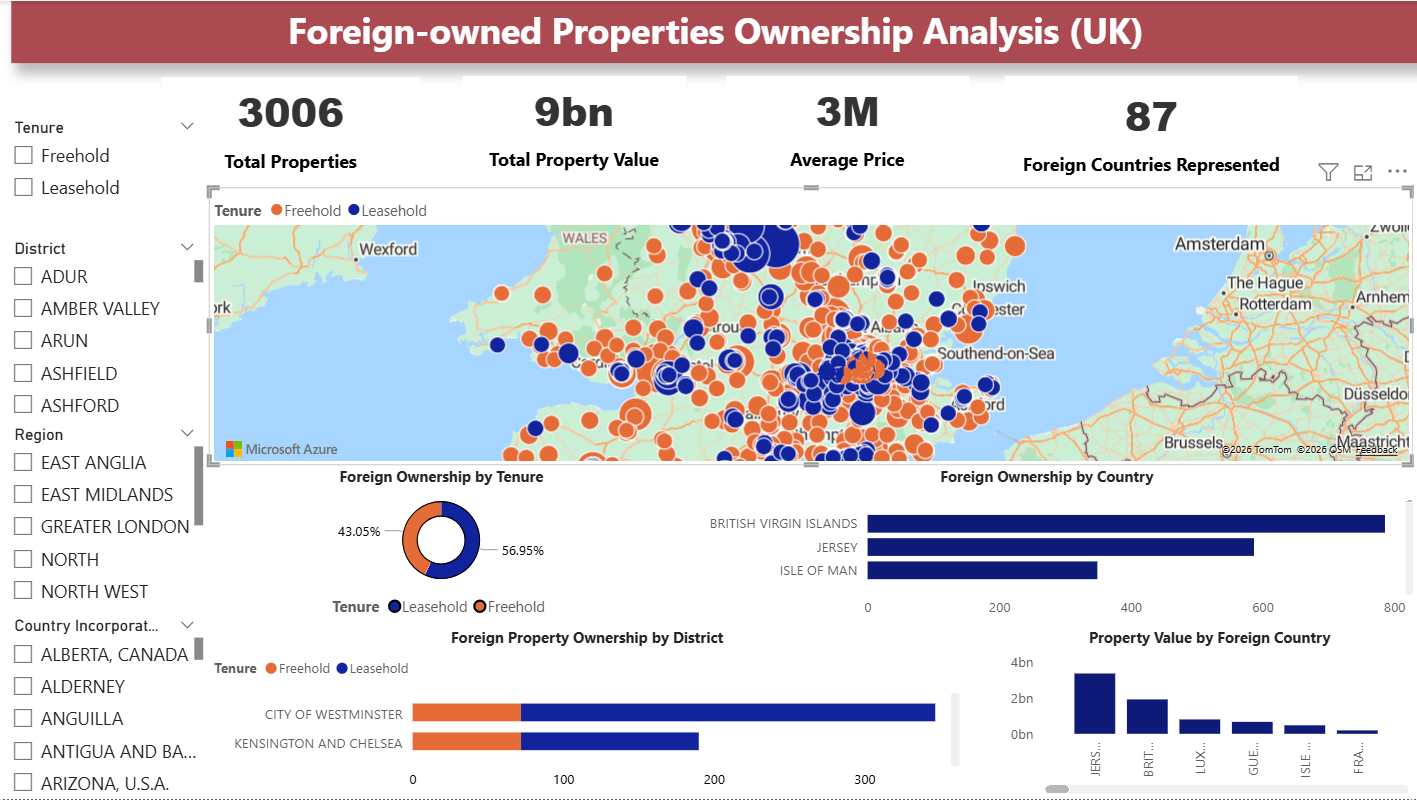

Layout of this report page (visuals, bound fields, positions):
{"tool":"powerbi","page":{"name":"Page 1","canvas":[1280,720],"ordinal":0},"visuals":[{"type":"textbox","box":[9.6,0,1270.7,56.3],"z":0},{"type":"advanceCardE03760C5AB684758B56AA29F9E6C257B","fields":{"mainMeasure":["processed_df.Total Properties"]},"box":[145.5,68.5,233.6,90.5],"z":1000},{"type":"advanceCardE03760C5AB684758B56AA29F9E6C257B","fields":{"mainMeasure":["processed_df.Total Property Value"]},"box":[416.8,68.1,201.6,89.9],"z":2000},{"type":"advanceCardE03760C5AB684758B56AA29F9E6C257B","fields":{"mainMeasure":["processed_df.Average Price"]},"box":[655.1,68.1,219.3,89.9],"z":3000},{"type":"advanceCardE03760C5AB684758B56AA29F9E6C257B","fields":{"mainMeasure":["processed_df.Countries Represented"]},"box":[905.7,68.1,264.2,99.4],"z":4000},{"type":"azureMap","fields":{"Y":["processed_df.Latitude"],"X":["processed_df.Longitude"],"Series":["processed_df.Tenure"],"Size":["Sum(processed_df.Price Paid)"]},"box":[188,167.5,1086.9,252],"z":5000},{"type":"donutChart","title":"Foreign Ownership by Tenure","fields":{"Category":["processed_df.Tenure"],"Y":["CountNonNull(processed_df.Title Number)"]},"box":[188,419.5,419.5,145.7],"z":5001},{"type":"clusteredBarChart","title":"Foreign Ownership by Country","fields":{"Category":["processed_df.Country Incorporated (1)"],"Y":["CountNonNull(processed_df.Title Number)"]},"box":[607.5,419.5,672.8,145.7],"z":5002},{"type":"barChart","title":"Foreign Property Ownership by District","fields":{"Category":["processed_df.District"],"Y":["CountNonNull(processed_df.Title Number)"],"Series":["processed_df.Tenure"]},"box":[188,565.2,682.4,155.3],"z":5003},{"type":"clusteredColumnChart","title":"Property Value by Foreign Country","fields":{"Category":["processed_df.Country Incorporated (1)"],"Y":["Sum(processed_df.Price Paid)"]},"box":[905.7,565.2,369.1,155.3],"z":5004},{"type":"slicer","fields":{"Values":["processed_df.Tenure"]},"box":[0,100.8,188,109],"z":5005},{"type":"slicer","fields":{"Values":["processed_df.Region"]},"box":[0,377.3,188,173],"z":5006},{"type":"slicer","fields":{"Values":["processed_df.District"]},"box":[0,209.7,188,167.5],"z":5007},{"type":"slicer","fields":{"Values":["processed_df.Country Incorporated (1)"]},"box":[0,550.2,188,170.2],"z":5008}]}

Visuals, with their boxes on the page's 1280x720 design canvas (x1, y1, x2, y2). These are canvas units, not pixel positions in the 1417x800 screenshot, which may show the page scaled, cropped or inside an application window:
textbox: bbox=[10, 0, 1280, 56]
advanceCardE03760C5AB684758B56AA29F9E6C257B - processed_df.Total Properties: bbox=[146, 68, 379, 159]
advanceCardE03760C5AB684758B56AA29F9E6C257B - processed_df.Total Property Value: bbox=[417, 68, 618, 158]
advanceCardE03760C5AB684758B56AA29F9E6C257B - processed_df.Average Price: bbox=[655, 68, 874, 158]
advanceCardE03760C5AB684758B56AA29F9E6C257B - processed_df.Countries Represented: bbox=[906, 68, 1170, 168]
azureMap - processed_df.Latitude x processed_df.Longitude: bbox=[188, 168, 1275, 420]
"Foreign Ownership by Tenure" donutChart: bbox=[188, 420, 608, 565]
"Foreign Ownership by Country" clusteredBarChart: bbox=[608, 420, 1280, 565]
"Foreign Property Ownership by District" barChart: bbox=[188, 565, 870, 720]
"Property Value by Foreign Country" clusteredColumnChart: bbox=[906, 565, 1275, 720]
slicer - processed_df.Tenure: bbox=[0, 101, 188, 210]
slicer - processed_df.Region: bbox=[0, 377, 188, 550]
slicer - processed_df.District: bbox=[0, 210, 188, 377]
slicer - processed_df.Country Incorporated (1): bbox=[0, 550, 188, 720]
